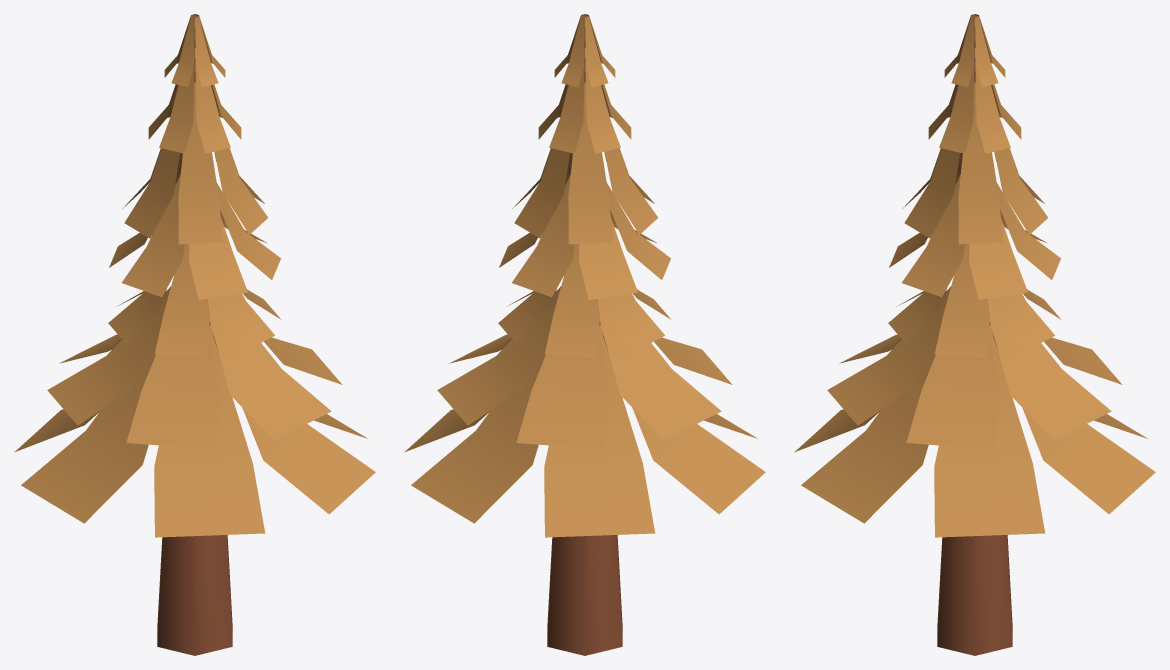
File: cozy_lake_tree_dense_yellow.glb
3 renders of one model, left to right at view 1: azimuth 30°, elevation 25°; view 2: azimuth 150°, elevation 25°; view 3: azimuth 270°, elevation 25°, orthographic.
Visible parts, largest first — view 1: Tree_Dense_Yellow; view 2: Tree_Dense_Yellow; view 3: Tree_Dense_Yellow.
Boxes of the visible parts, left/top/right/bottom form: Tree_Dense_Yellow: left=14, top=14, right=375, bottom=655; Tree_Dense_Yellow: left=404, top=14, right=765, bottom=655; Tree_Dense_Yellow: left=794, top=14, right=1155, bottom=655.
Bounding box in the file's own units: 56.94 × 110 × 57.88.
